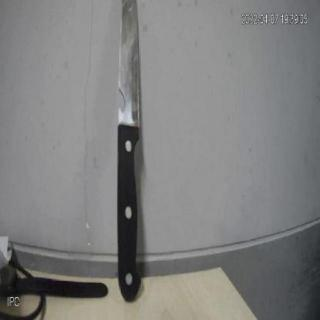knife: (110, 0, 159, 300)
